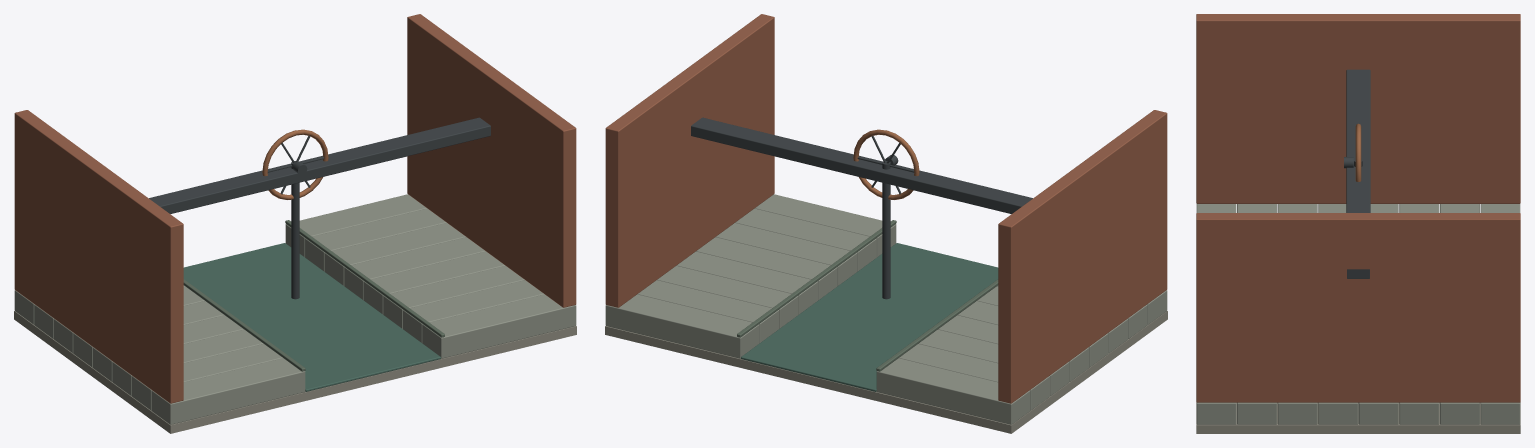
Rendered from undercity-sewers-and-thieves-den-penstock-chamber-ab93071e__25043.glb.
The picture shows the model from 3 angles, left to right: view 1: azimuth 30°, elevation 25°; view 2: azimuth 150°, elevation 25°; view 3: azimuth 270°, elevation 25°; orthographic projection. The views are drawn at different scales.
Parts seen in each view (by area): view 1: penstock-chamber; view 2: penstock-chamber; view 3: penstock-chamber.
Boxes of the visible parts, x1,y1,x2,y2 form: penstock-chamber: (14,14,576,433); penstock-chamber: (605,14,1167,433); penstock-chamber: (1196,14,1520,433).
Size of the model in its own units: 6 by 2.92 by 4.
